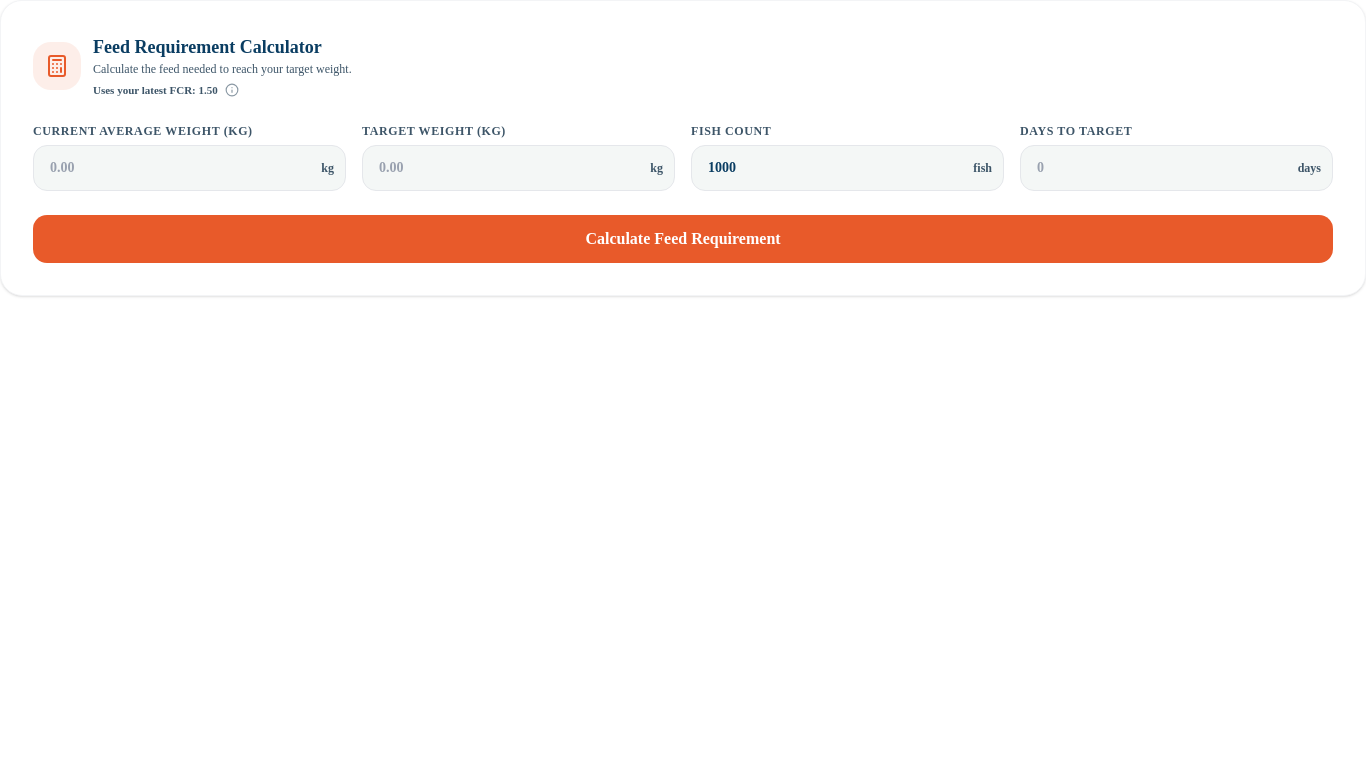
it: FcrCalculator growth target › saves the calculated target for the pond and its population
The image size is (1366, 768).
Type "0.1" into the number field labelled "Current average weight (kg)". click: (190, 168)
box: [33,145,346,191]
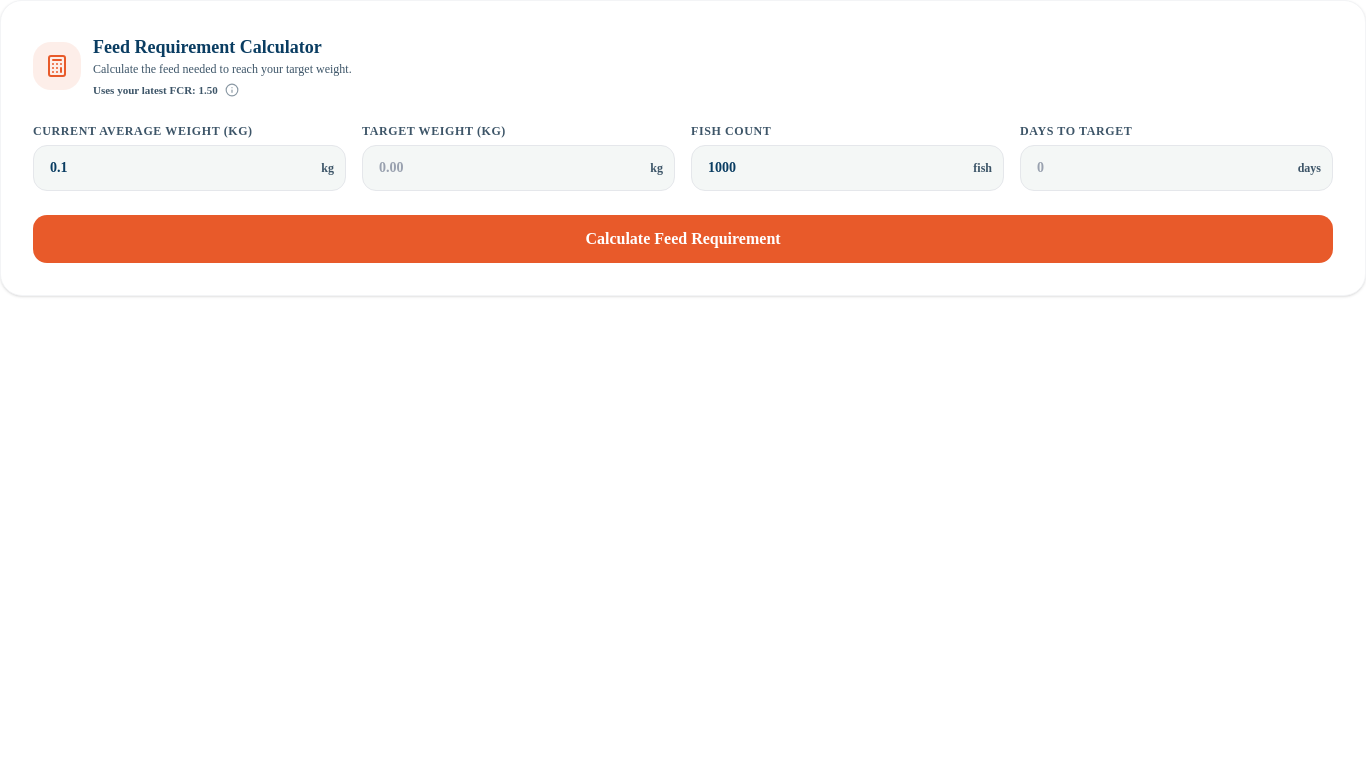
Type "0.4" into the number field labelled "Target Weight (kg)". click: (518, 168)
box: [362,145,675,191]
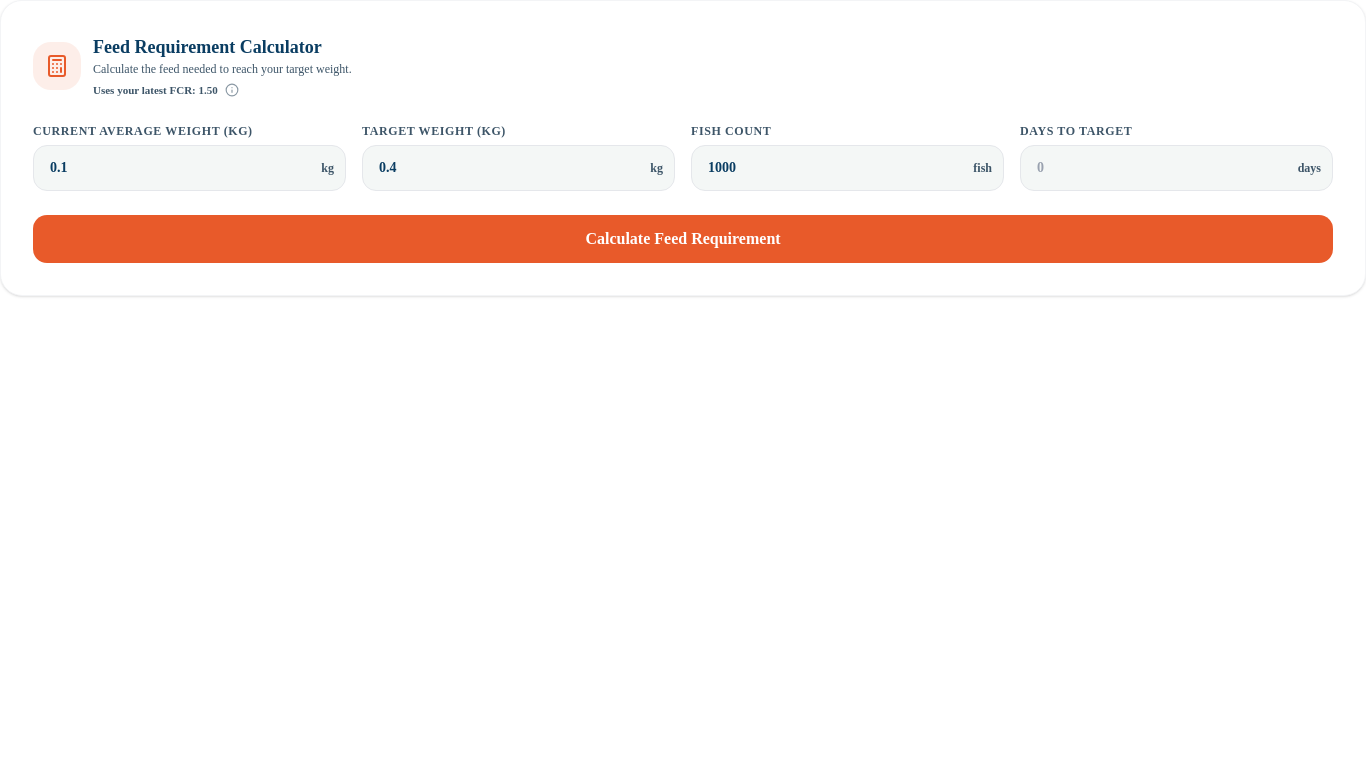
Type "60" into the number field labelled "Days to Target". click: (1176, 168)
box: [1020,145,1333,191]
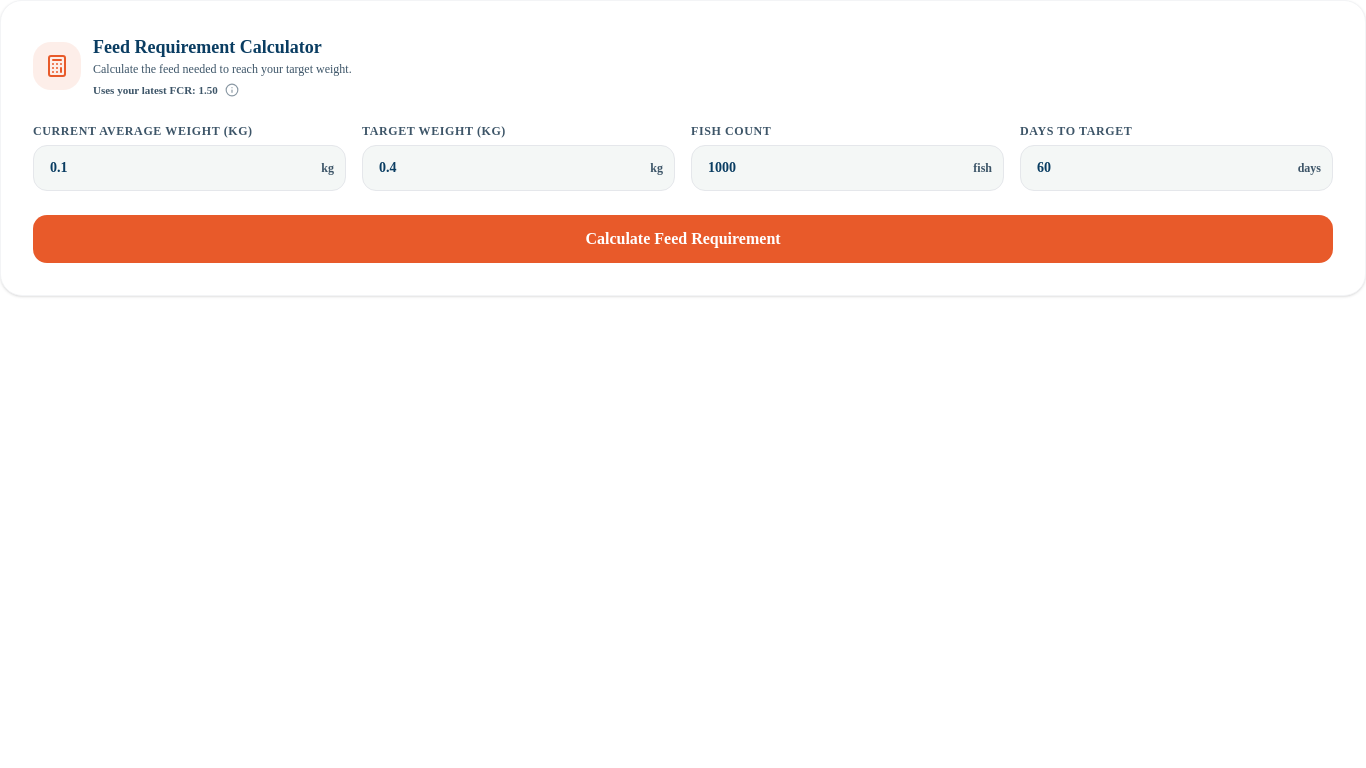
Click the button "Calculate Feed Requirement". click: (683, 239)
box: [33,215,1333,263]
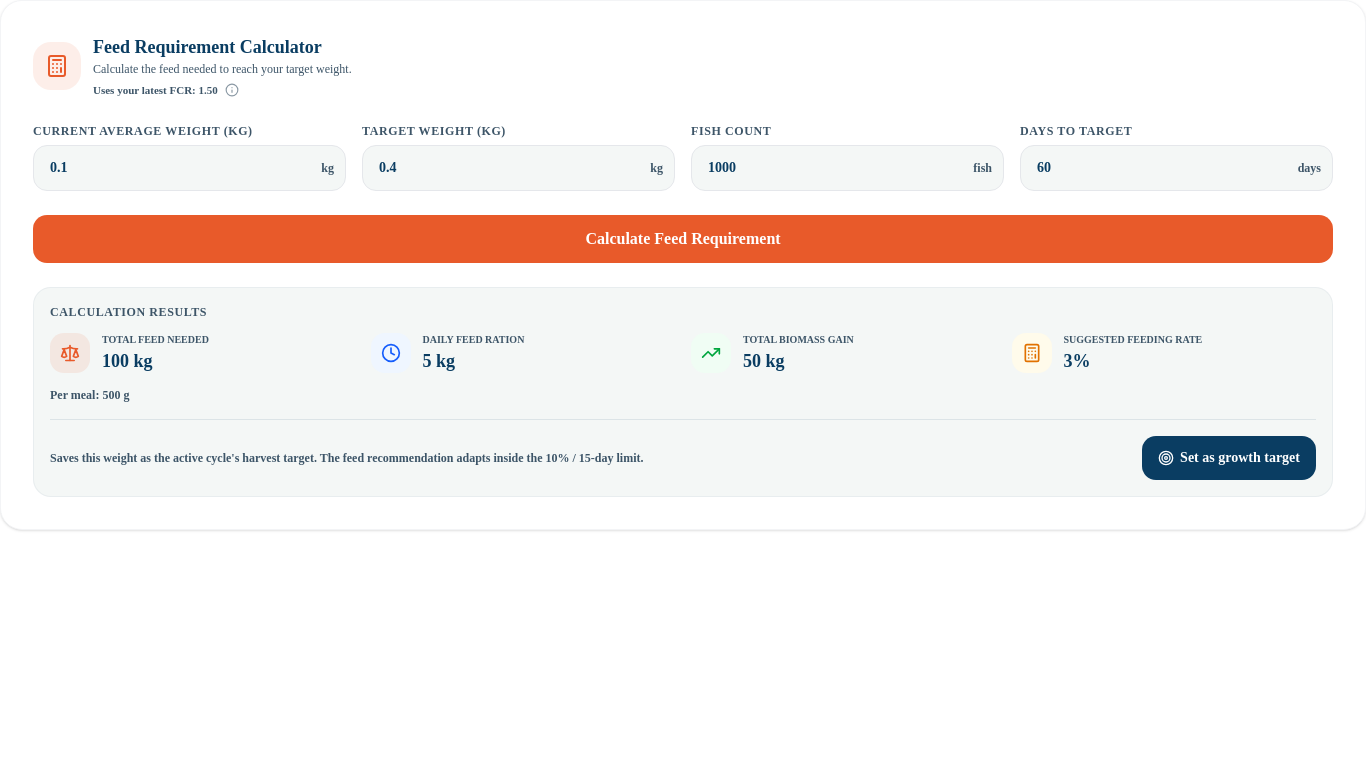
Click the button "Set as growth target". click: (1229, 458)
box: [1142,436,1316,480]
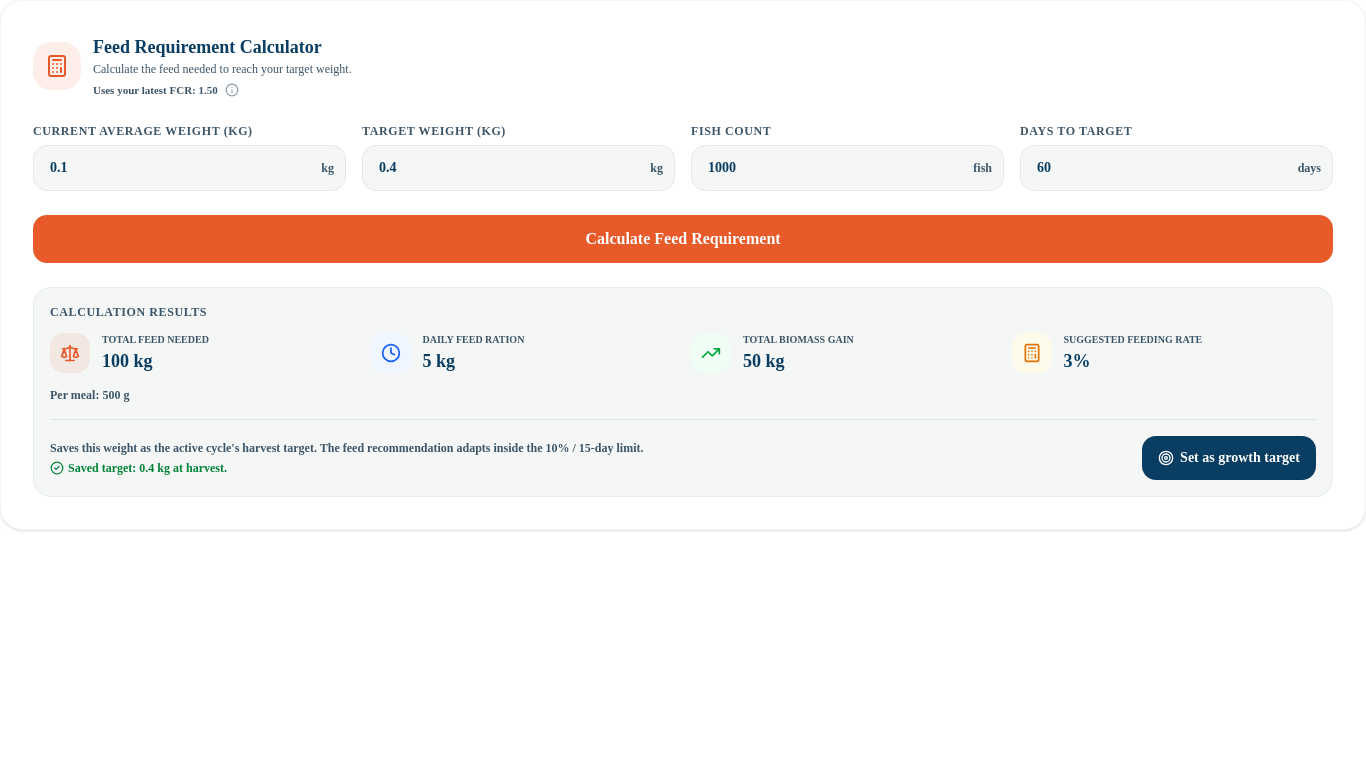
Result: the text "Saved target: 0.4 kg at harvest." is shown at [50,461,227,475]
